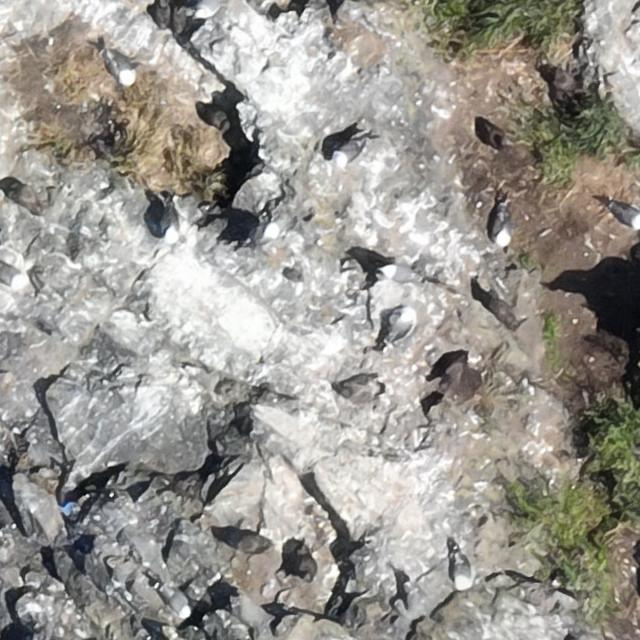umineko: (383, 306, 418, 347), (243, 222, 280, 252), (110, 56, 135, 84), (613, 206, 640, 229), (166, 589, 189, 615), (334, 140, 360, 163), (382, 265, 418, 281), (495, 212, 512, 245), (452, 559, 469, 589)
